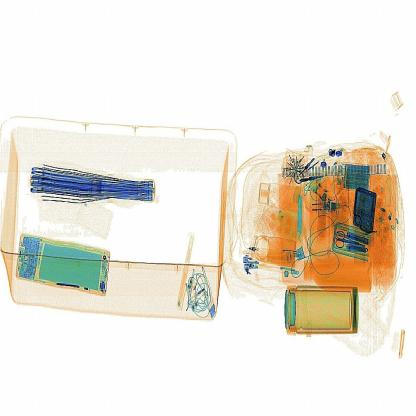pliers: (290, 183, 310, 246)
